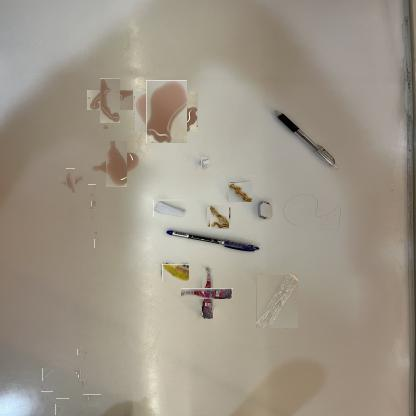dirty: (256, 274, 298, 328), (192, 278, 223, 310), (153, 200, 186, 218), (208, 206, 230, 228), (228, 182, 252, 202), (162, 264, 189, 281), (201, 158, 211, 170)
liquid: (141, 85, 192, 138), (100, 147, 134, 181), (94, 84, 127, 116), (62, 172, 79, 190), (83, 394, 101, 407), (74, 369, 86, 387), (42, 368, 56, 381), (79, 347, 90, 358), (42, 391, 53, 401), (88, 184, 96, 197), (88, 208, 94, 220), (54, 405, 62, 414), (94, 238, 99, 248), (55, 398, 69, 401), (91, 201, 96, 206), (102, 125, 108, 129), (92, 230, 98, 234)
